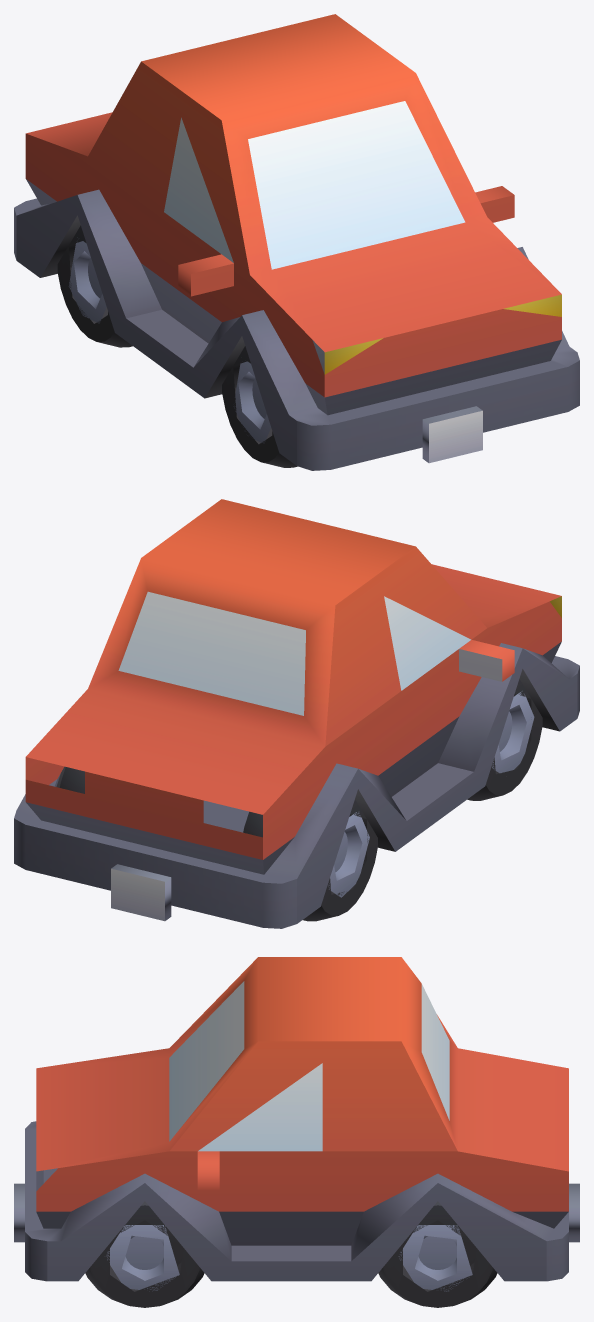
The model's file is cars.glb.
3 renders of one model, top to bottom at view 1: azimuth 30°, elevation 25°; view 2: azimuth 150°, elevation 25°; view 3: azimuth 270°, elevation 25°, orthographic. The views are drawn at different scales.
Visible parts, largest first — view 1: body, wheel-front-right, wheel-back-right; view 2: body, wheel-back-right, wheel-front-right; view 3: body, wheel-back-left, wheel-front-left.
Part boxes in pixels (x1,y1,x2,y2): body: [14, 14, 579, 470]; wheel-front-right: [222, 340, 324, 467]; wheel-back-right: [57, 225, 132, 347]; body: [14, 499, 579, 928]; wheel-back-right: [243, 799, 377, 921]; wheel-front-right: [467, 679, 542, 800]; body: [14, 957, 579, 1281]; wheel-back-left: [378, 1201, 497, 1307]; wheel-front-left: [85, 1201, 204, 1307].
Size of the model in its own units: 1.5 by 1.3 by 2.55.
Materials: 1 (1 with a texture image).
